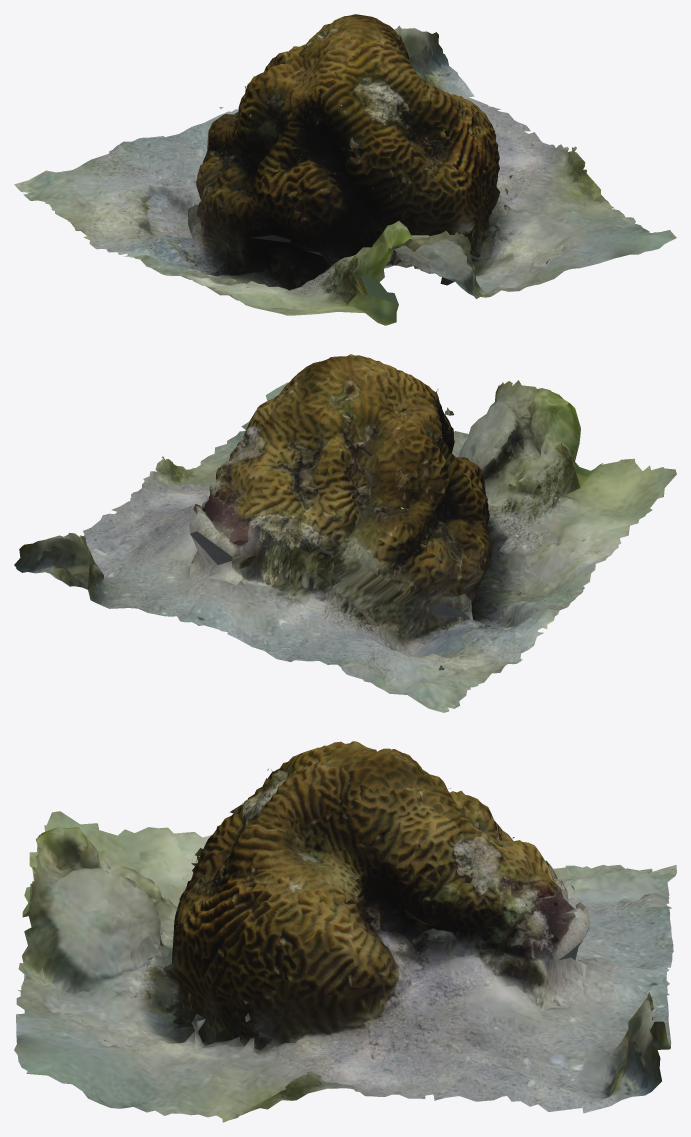
The model's file is brain_platygyra.glb.
3 views of the same model, one above another, from view 1: azimuth 30°, elevation 25°; view 2: azimuth 150°, elevation 25°; view 3: azimuth 270°, elevation 25° (orthographic). The views are drawn at different scales.
Parts seen in each view (by area): view 1: prop; view 2: prop; view 3: prop.
Boxes of the visible parts, bbox=[...] form: prop: bbox=[14, 14, 676, 325]; prop: bbox=[14, 354, 676, 712]; prop: bbox=[14, 741, 676, 1122].
Size of the model in its own units: 0.9406 by 0.4851 by 0.9988.
Materials: 1 (1 with a texture image).
